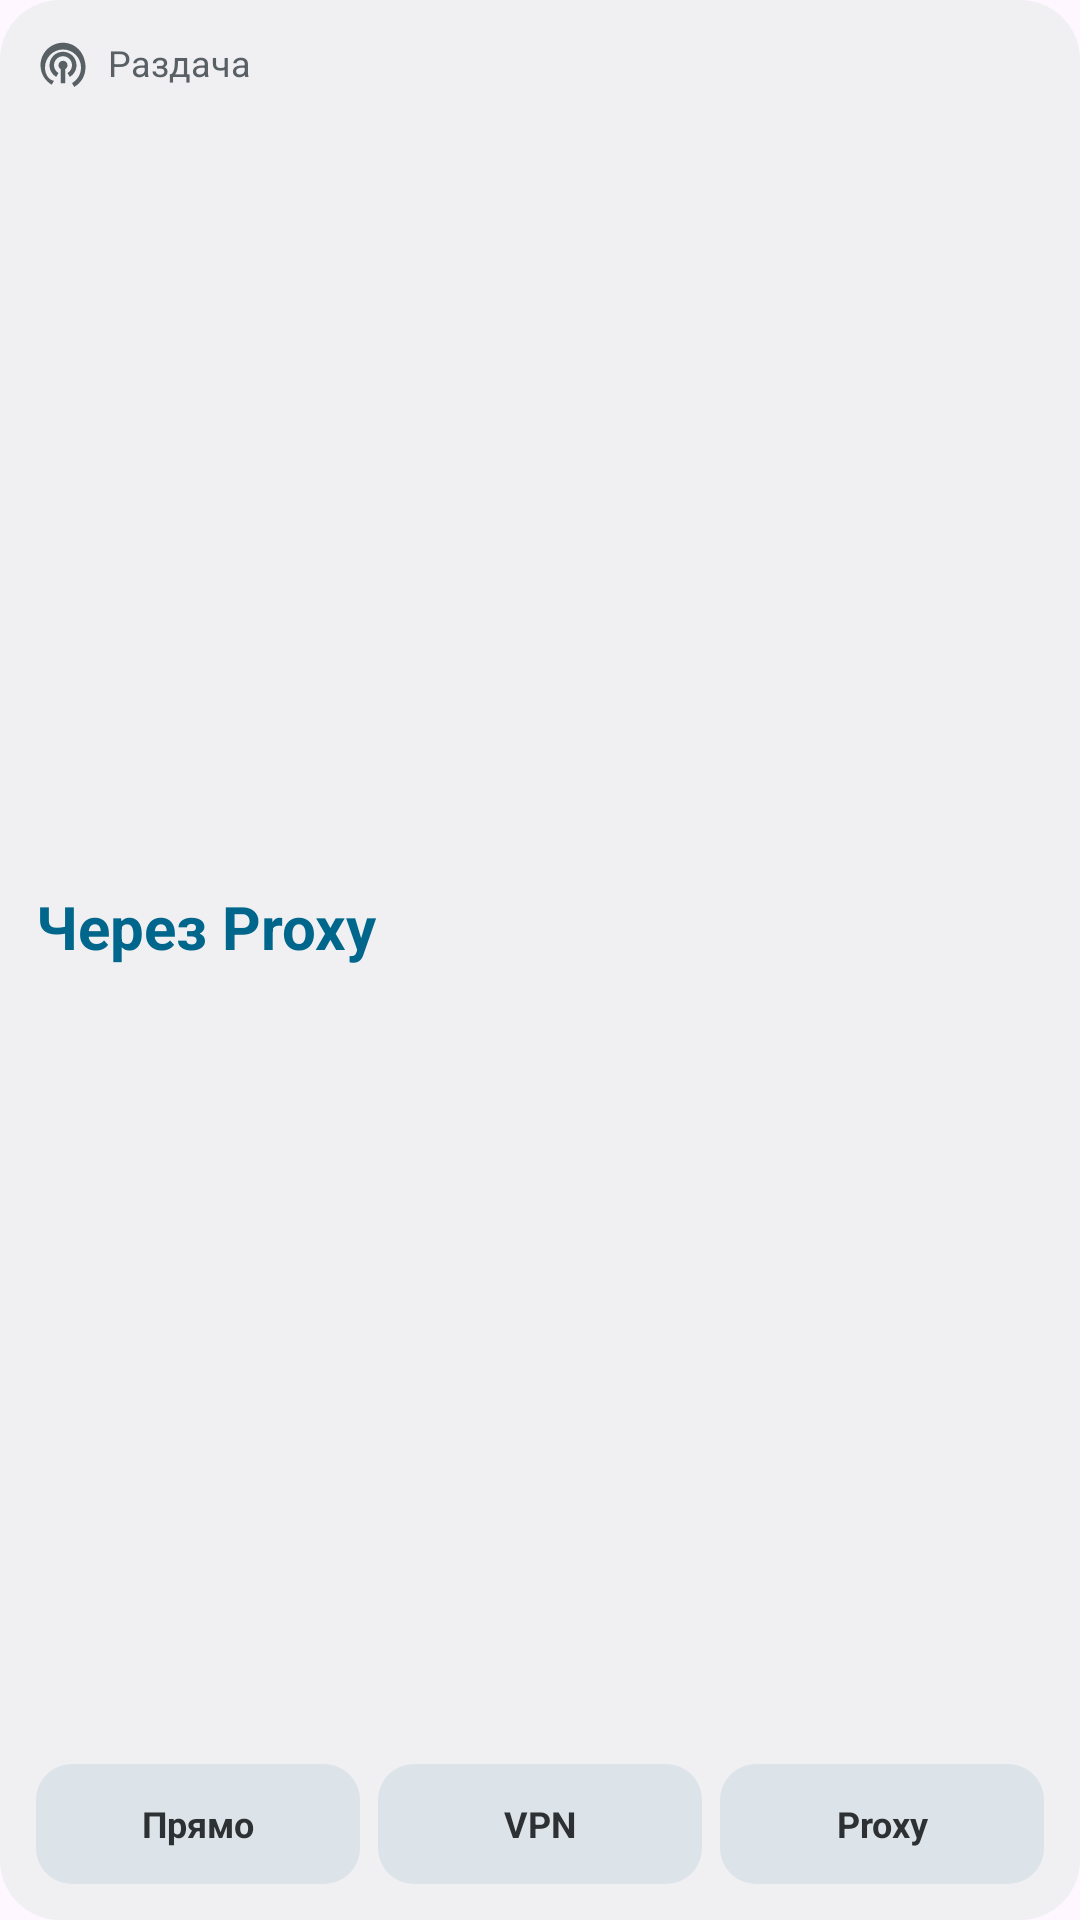

Screen size 1080x1920. Icon name, then its center in pixels as (x=x, y=y):
hotspot: (x=63, y=64)
